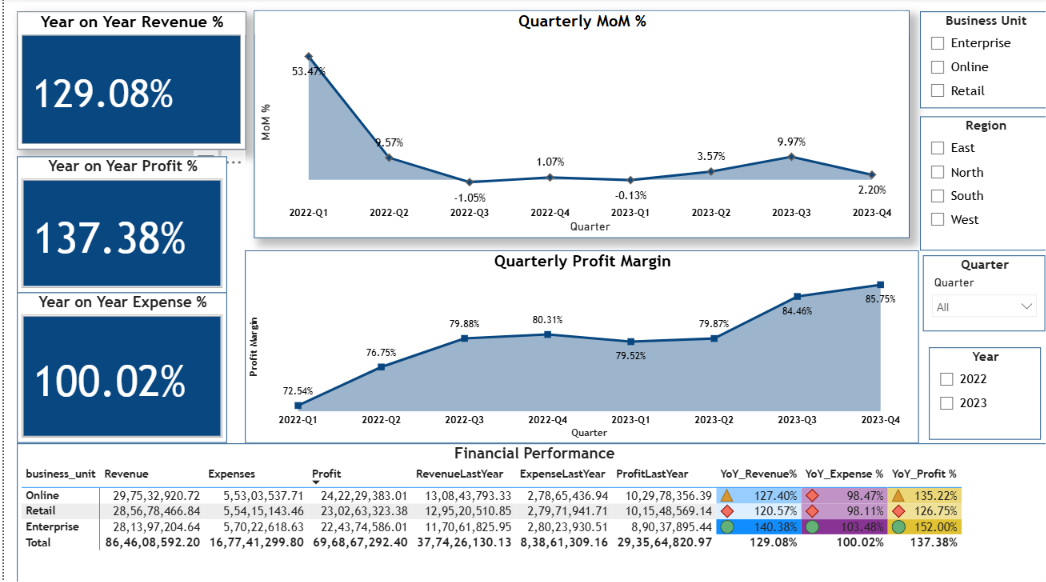

Layout of this report page (visuals, bound fields, positions):
{"tool":"powerbi","page":{"name":"Revenue Performance","canvas":[1280,720],"ordinal":1},"visuals":[{"type":"cardVisual","title":"Year on Year Revenue %","fields":{"Data":["capstone_project financial_transactions.YoY %"]},"box":[15.7,15.7,280,168.6],"z":0},{"type":"pivotTable","title":"Financial Performance","fields":{"Rows":["capstone_project financial_transactions.business_unit"],"Values":["capstone_project financial_transactions.Revenue","capstone_project financial_transactions.Expenses","capstone_project financial_transactions.Profit","capstone_project financial_transactions.RevenueLastYear","capstone_project financial_transactions.ExpenseLastYear","capstone_project financial_transactions.ProfitLastYear","capstone_project financial_transactions.YoY_Revenue%","capstone_project financial_transactions.YoY_Expense %","capstone_project financial_transactions.YoY_Profit %"]},"box":[15.7,544.3,1264.3,175.7],"z":1000},{"type":"lineChart","title":" Quarterly MoM %","fields":{"Category":["Calender.YearQuarter"],"Y":["capstone_project financial_transactions.MoM %"]},"box":[305.7,14.3,801.4,278.6],"z":2000},{"type":"lineChart","title":"Quarterly Profit Margin","fields":{"Category":["Calender.YearQuarter"],"Y":["capstone_project financial_transactions.Profit Margin"]},"box":[294.3,308.6,824.3,235.7],"z":3000},{"type":"cardVisual","title":"Year on Year Profit %","fields":{"Data":["capstone_project financial_transactions.YoY_Profit %"]},"box":[15.7,192.9,257.1,167.1],"z":4000},{"type":"slicer","title":"Business Unit","fields":{"Values":["Dim_Business_Unit.business_unit"]},"box":[1120,15.7,160.2,118.6],"z":5000},{"type":"slicer","title":"Region","fields":{"Values":["Dim_Region.region"]},"box":[1120,144.3,160.2,163.9],"z":6000},{"type":"slicer","title":"Year","fields":{"Values":["Calender.Year"]},"box":[1131.4,427.1,137.1,112.9],"z":7000},{"type":"slicer","title":"Quarter","fields":{"Values":["Calender.Quarter"]},"box":[1124.3,314.3,150,92.9],"z":8000},{"type":"cardVisual","title":"Year on Year Expense %","fields":{"Data":["capstone_project financial_transactions.YoY_Expense %"]},"box":[16,360,257,184],"z":9000}]}

Visuals, with their boxes in screenshot pixels (x1, y1, x2, y2), scaled from the page's 1280x720 canvas onto the 1046x582 screenshot:
"Year on Year Revenue %" cardVisual: x1=13, y1=13, x2=242, y2=149
"Financial Performance" pivotTable: x1=13, y1=440, x2=1045, y2=581
" Quarterly MoM %" lineChart: x1=250, y1=12, x2=905, y2=237
"Quarterly Profit Margin" lineChart: x1=240, y1=249, x2=914, y2=440
"Year on Year Profit %" cardVisual: x1=13, y1=156, x2=223, y2=291
"Business Unit" slicer: x1=915, y1=13, x2=1045, y2=109
"Region" slicer: x1=915, y1=117, x2=1045, y2=249
"Year" slicer: x1=925, y1=345, x2=1037, y2=436
"Quarter" slicer: x1=919, y1=254, x2=1041, y2=329
"Year on Year Expense %" cardVisual: x1=13, y1=291, x2=223, y2=440
